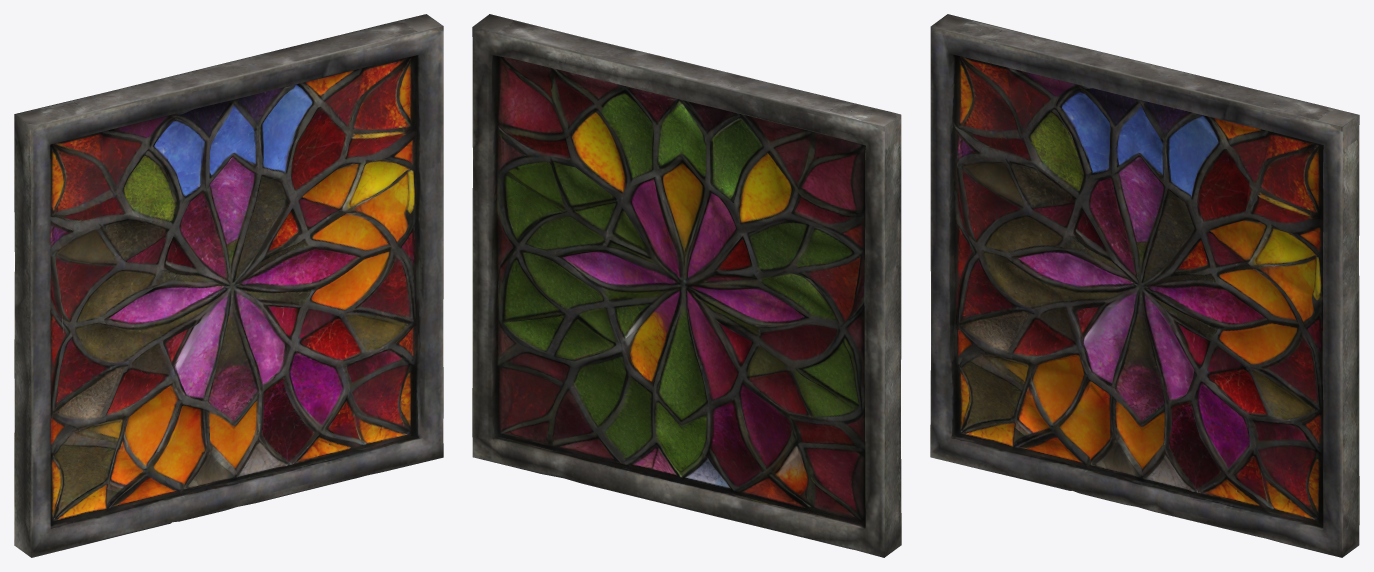
The model's file is testTile3.glb.
3 views of the same model, side by side, from view 1: azimuth 30°, elevation 25°; view 2: azimuth 150°, elevation 25°; view 3: azimuth 330°, elevation 25° (orthographic).
Parts seen in each view (by area): view 1: Mesh_0; view 2: Mesh_0; view 3: Mesh_0.
Part boxes in pixels (x1,y1,x2,y2): Mesh_0: (14, 14, 443, 557); Mesh_0: (472, 14, 901, 557); Mesh_0: (930, 14, 1359, 557).
Bounding box in the file's own units: 1 × 1 × 0.073.
Materials: 1 (1 with a texture image).
